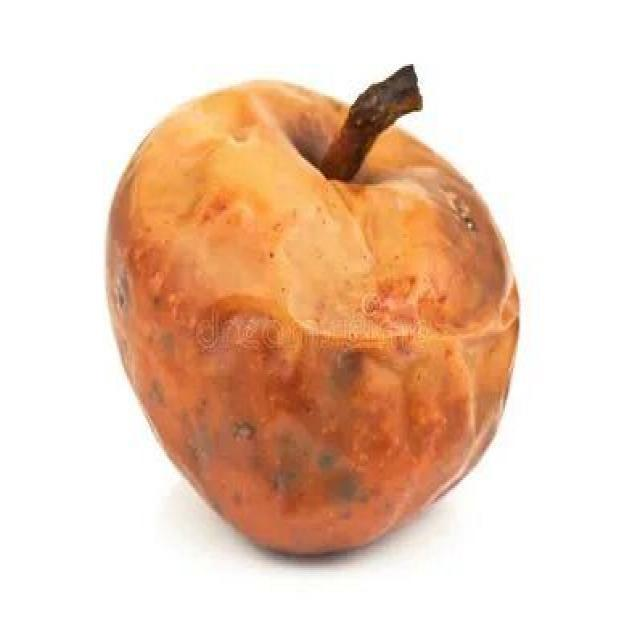Rotten: (118, 73, 515, 562)
